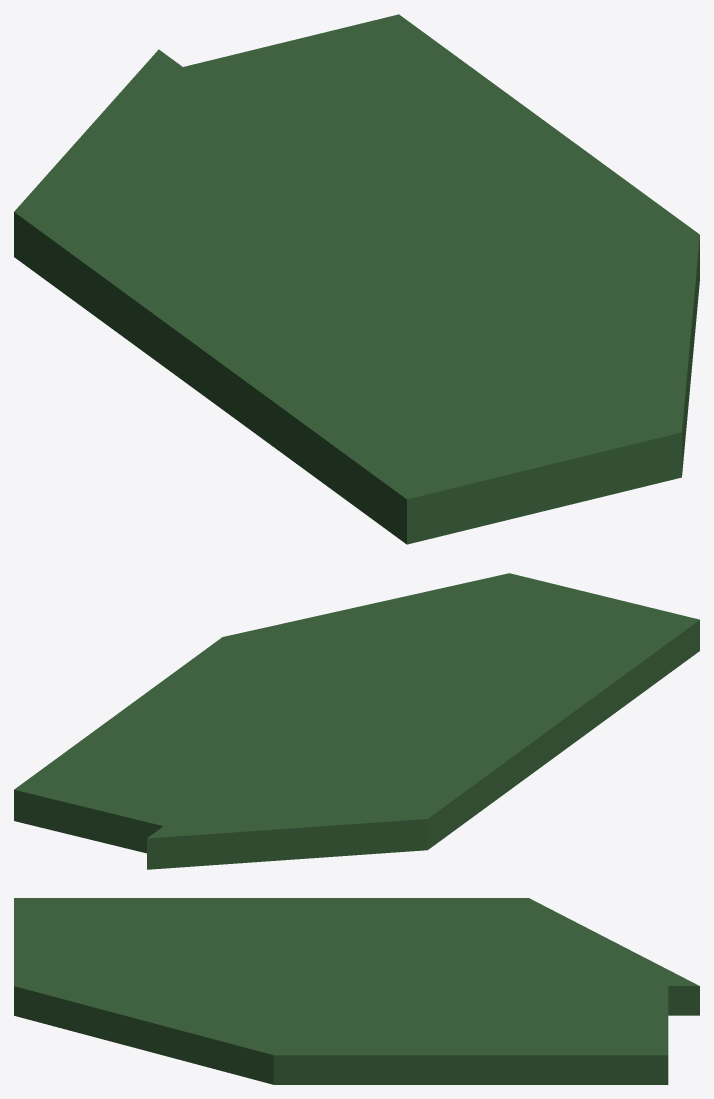
Rendered from x_proval_00_14_1_rmstrd.fbx.
3 views of the same model, one above another, from view 1: azimuth 30°, elevation 25°; view 2: azimuth 150°, elevation 25°; view 3: azimuth 270°, elevation 25° (orthographic). The views are drawn at different scales.
Visible parts, largest first — view 1: x_proval_00_14_1_rmstrd1; view 2: x_proval_00_14_1_rmstrd1; view 3: x_proval_00_14_1_rmstrd1.
Boxes of the visible parts, x1=… form: x_proval_00_14_1_rmstrd1: x1=14, y1=14, x2=699, y2=544; x_proval_00_14_1_rmstrd1: x1=14, y1=573, x2=699, y2=869; x_proval_00_14_1_rmstrd1: x1=14, y1=898, x2=699, y2=1084.
Bounding box in the file's own units: 2.27 × 0.2 × 4.2.
